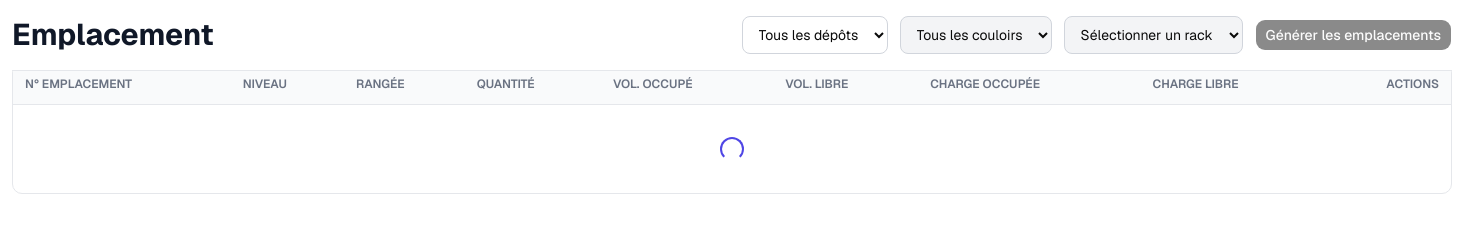
Scenario: shows generating text while generating
Step 1. Select "101 - Dépôt A" in the 1st dropdown → (815,35), box top-left (742, 16), bottom-right (888, 54)
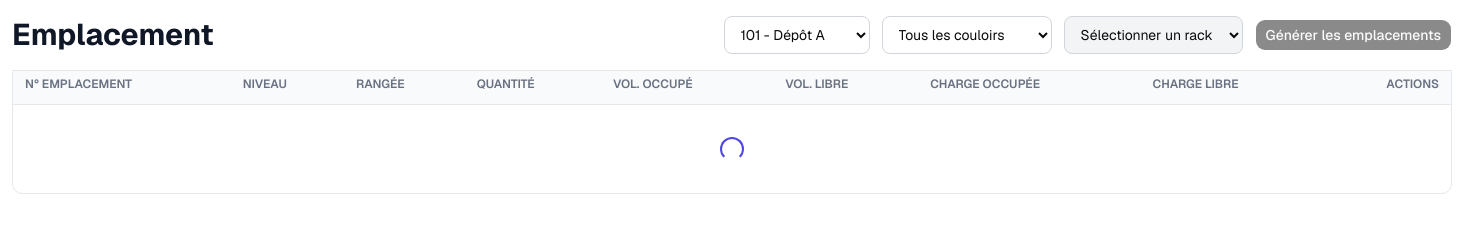
Step 2. Select "C01 - Couloir Alpha" in the 2nd dropdown → (967,35), box top-left (882, 16), bottom-right (1052, 54)
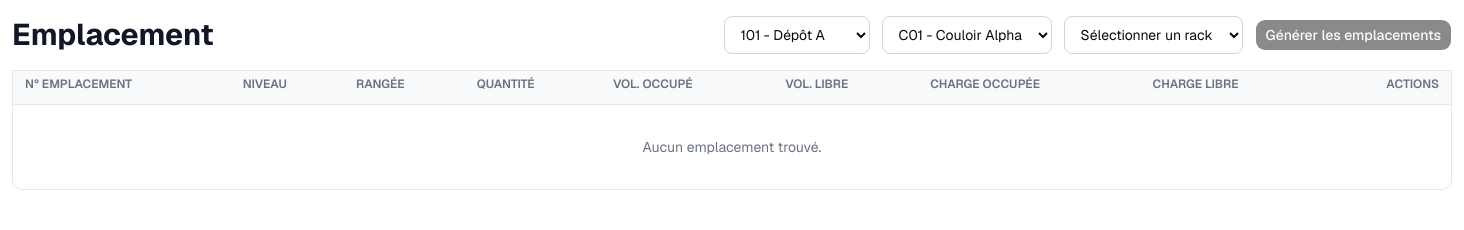
Step 3. Select "R01" in the 3rd dropdown → (1153,35), box top-left (1064, 16), bottom-right (1243, 54)
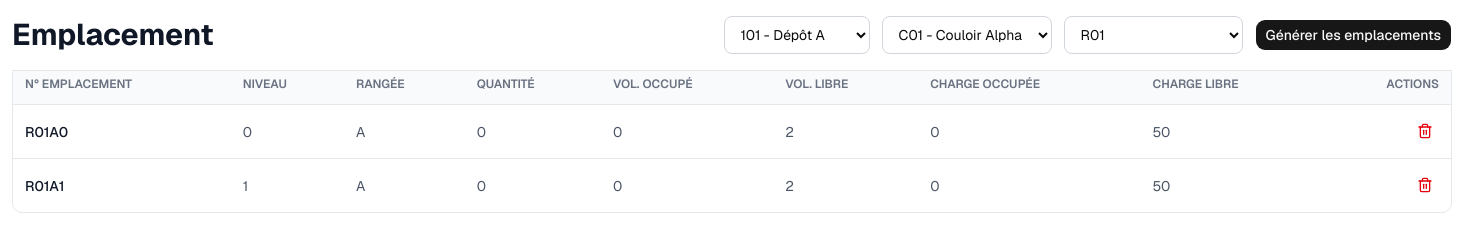
Expected: the button "Générer les emplacements" is enabled
Step 4. Click the button "Générer les emplacements" → (1353,35), box top-left (1255, 19), bottom-right (1452, 51)
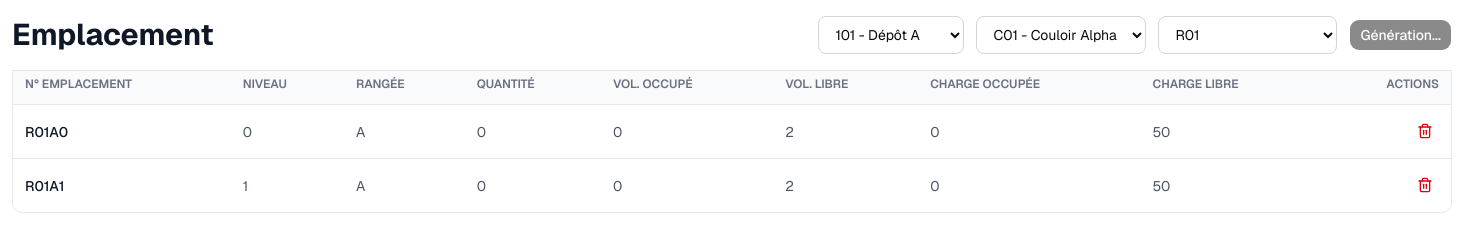
Expected: the button "Génération..." is disabled, top-left (1349, 19), bottom-right (1452, 51)
